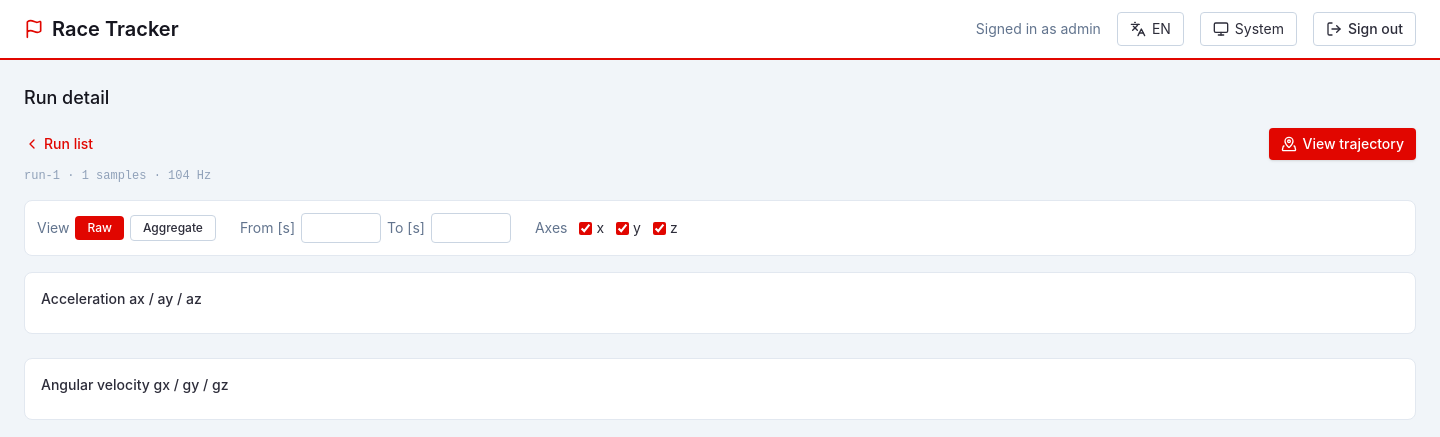
Test case: RunDetailPage › shows the empty message instead of blank axes when the filter excludes everything
The image size is (1440, 437).
In the number field labelled "From [s]": (341, 228) x1=301 y1=213 x2=381 y2=243, type "999"
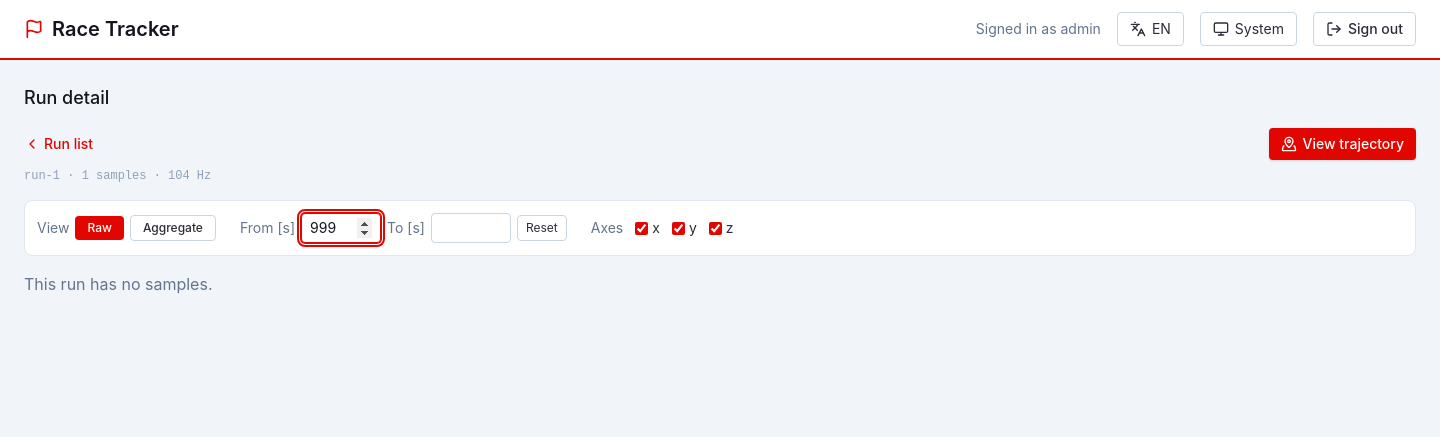
Check: the text "This run has no samples." is shown, box x1=24 y1=274 x2=212 y2=294
